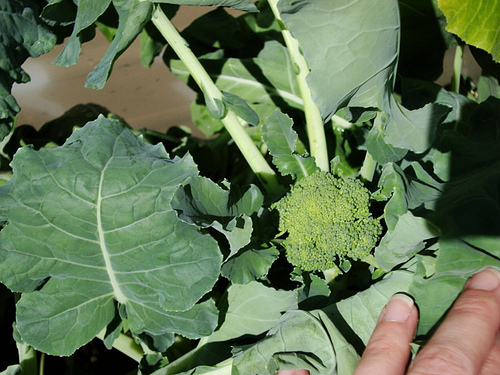broccoli: (272, 171, 381, 272)
